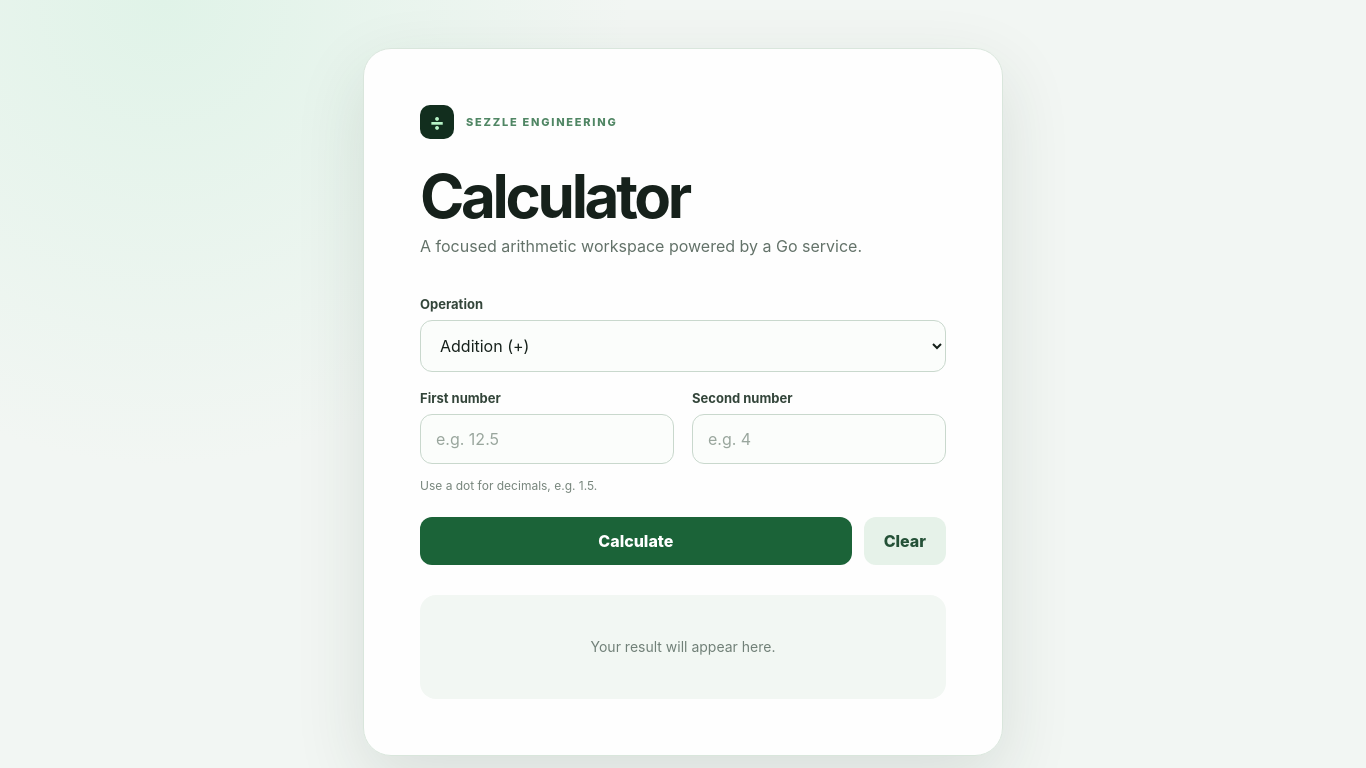
Test: Calculator app › submits values to the API and displays a zero result
Type "5" into the field labelled "First number".
click(547, 439); type("5")  # box [420, 414, 674, 464]
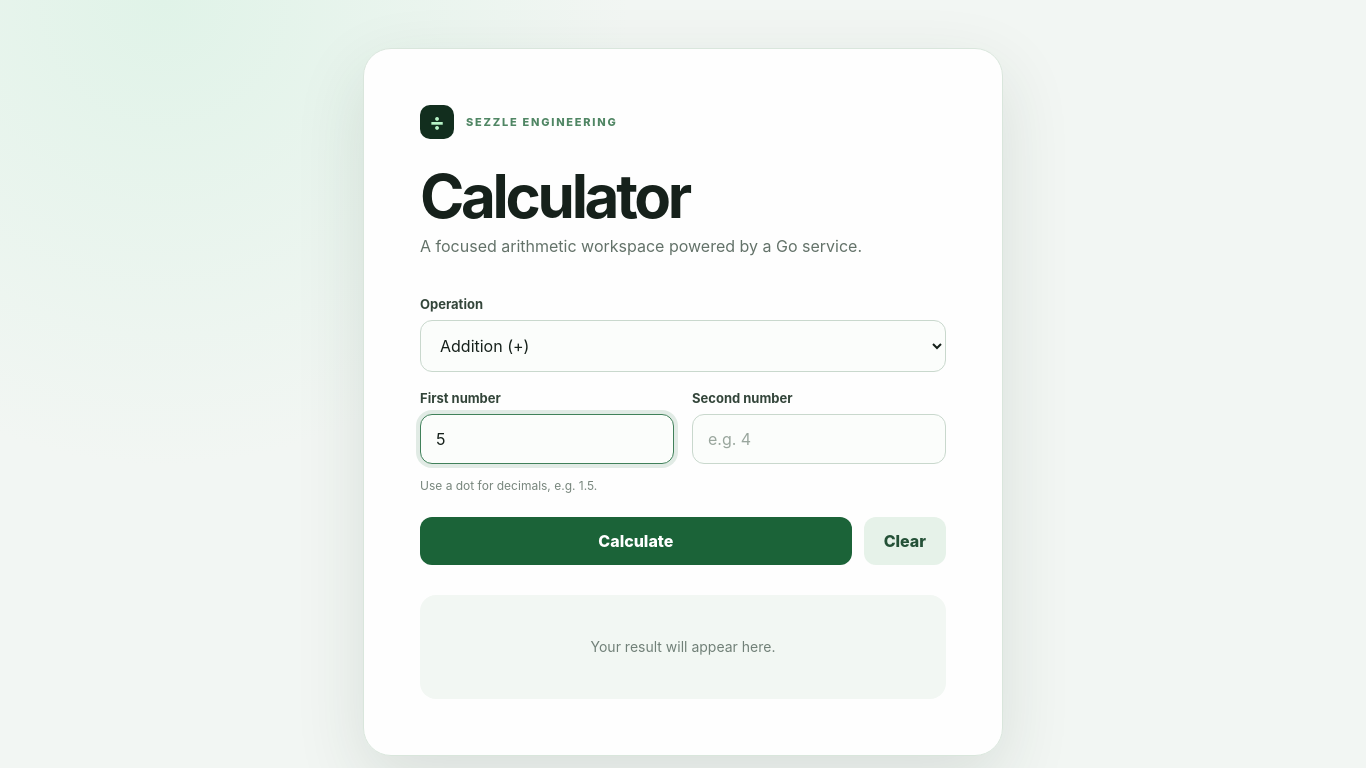
Type "-5" into the field labelled "Second number".
click(819, 439); type("-5")  # box [692, 414, 946, 464]
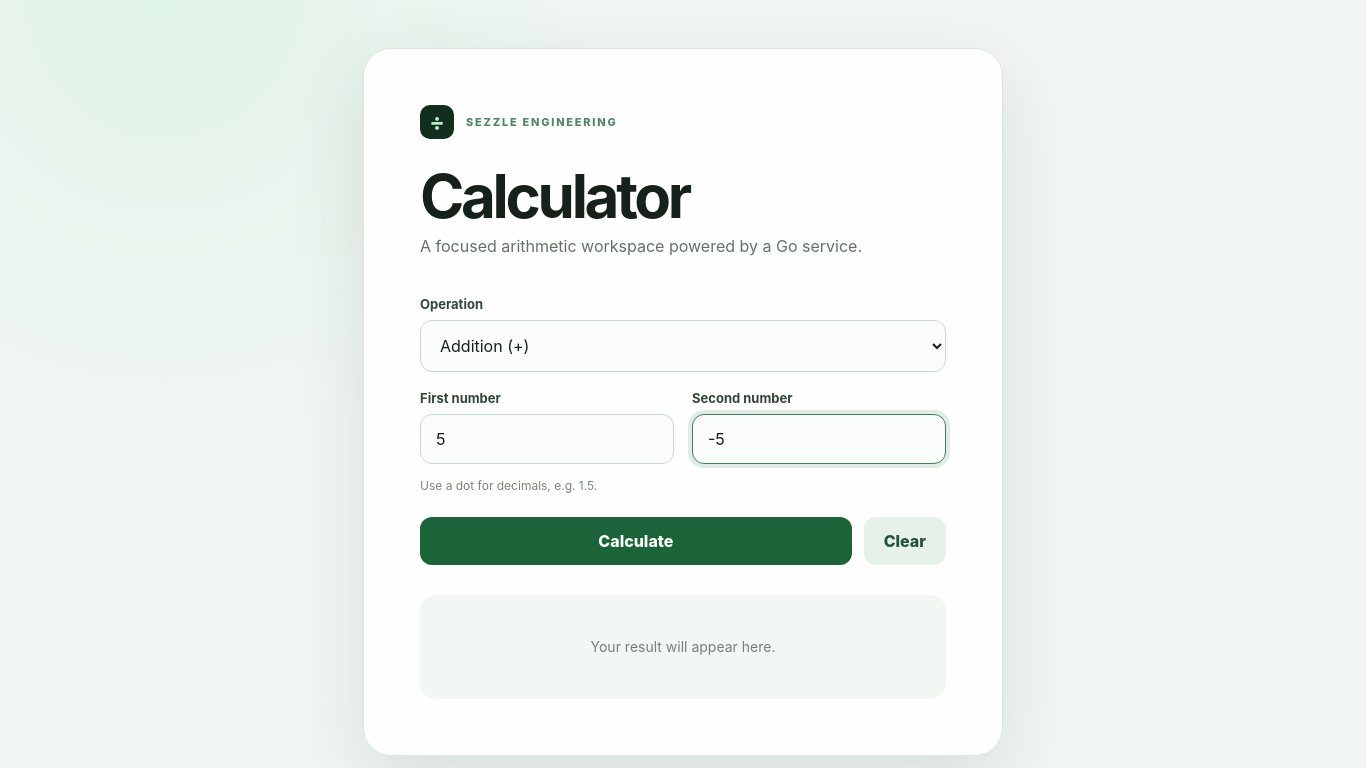
Click the button "Calculate".
click(636, 541)  # box [420, 517, 852, 565]
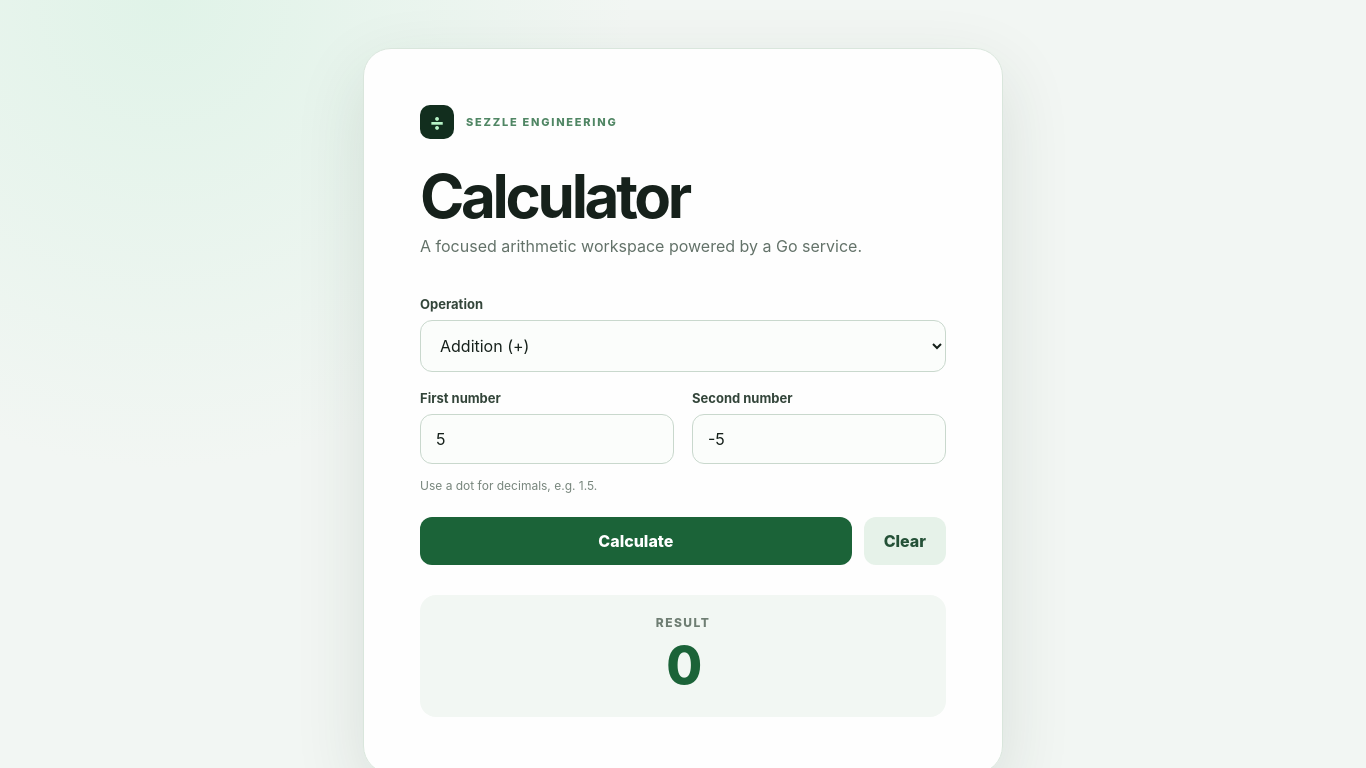
Now the message reads "0", box [666, 634, 700, 697]
